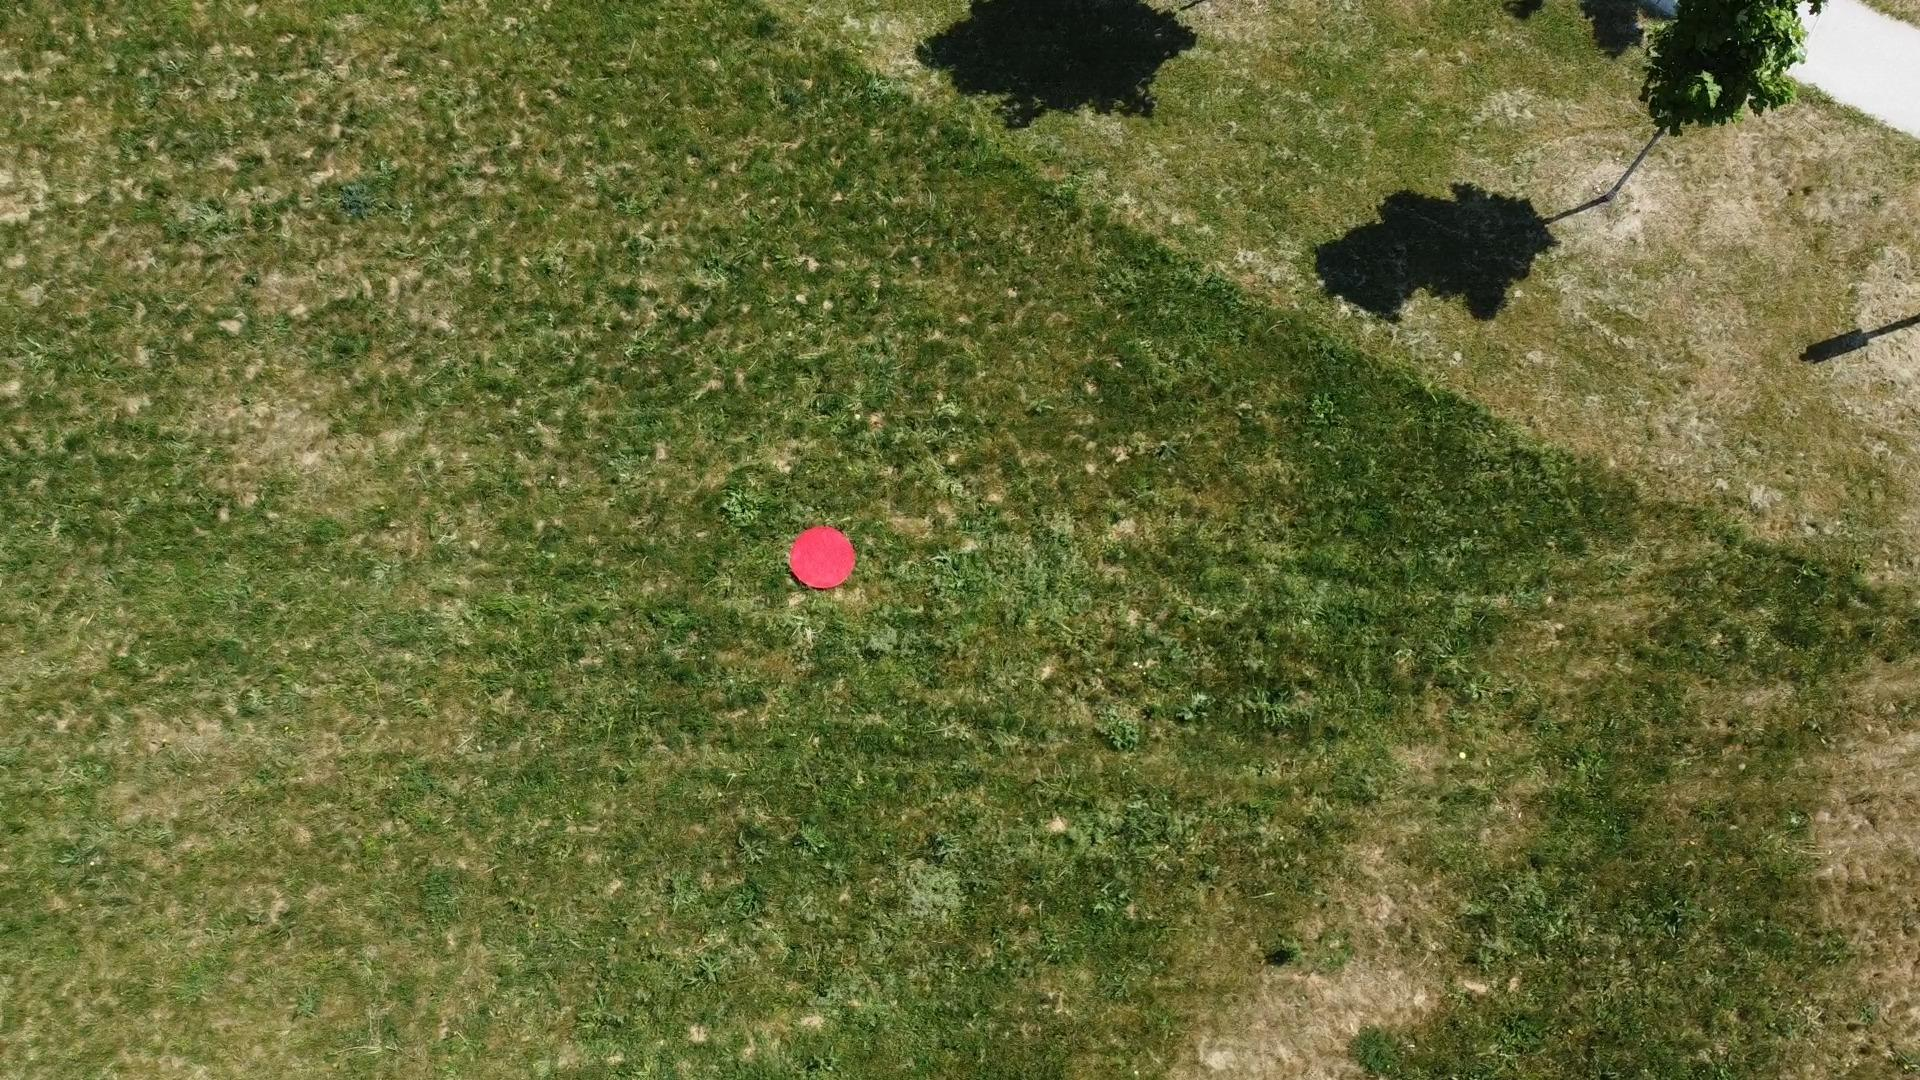Red: (786, 525, 858, 592)
